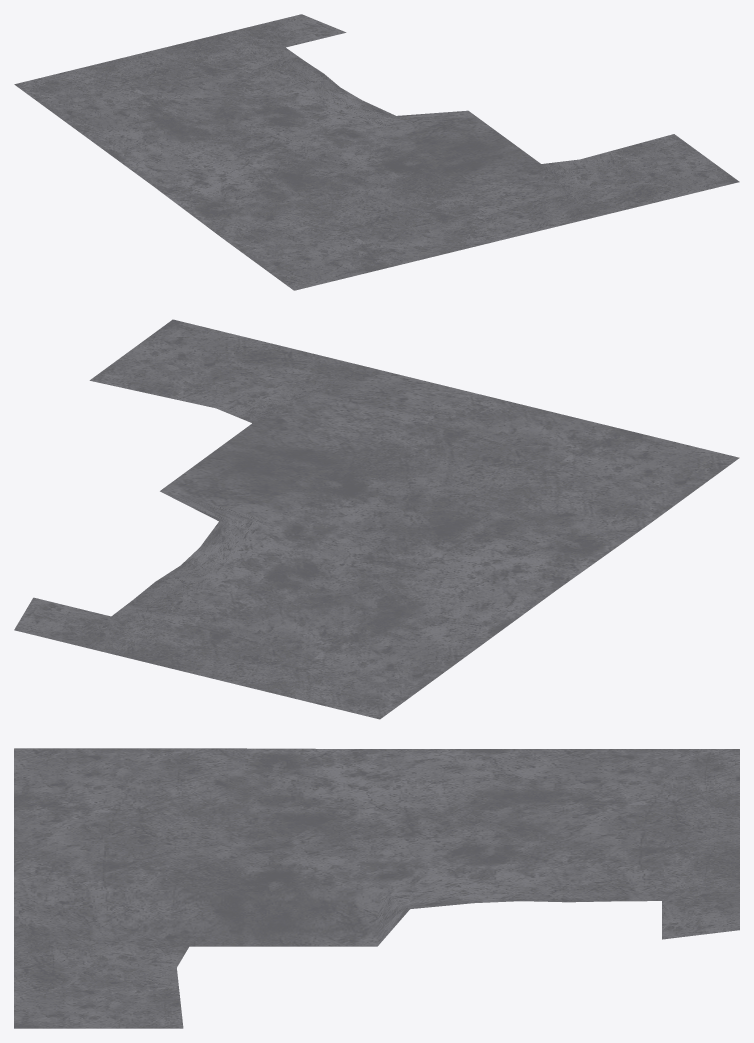
The model's file is floorSurface.fbx.
3 renders of one model, top to bottom at view 1: azimuth 30°, elevation 25°; view 2: azimuth 150°, elevation 25°; view 3: azimuth 270°, elevation 25°, orthographic. The views are drawn at different scales.
Visible parts, largest first — view 1: floorSurface; view 2: floorSurface; view 3: floorSurface.
Part boxes in pixels (box(x1,y1,x2,y2)): floorSurface: box(14, 14, 739, 290); floorSurface: box(14, 319, 739, 719); floorSurface: box(14, 748, 739, 1028).
Bounding box in the file's own units: 12658 × 0.00577 × 13847.
